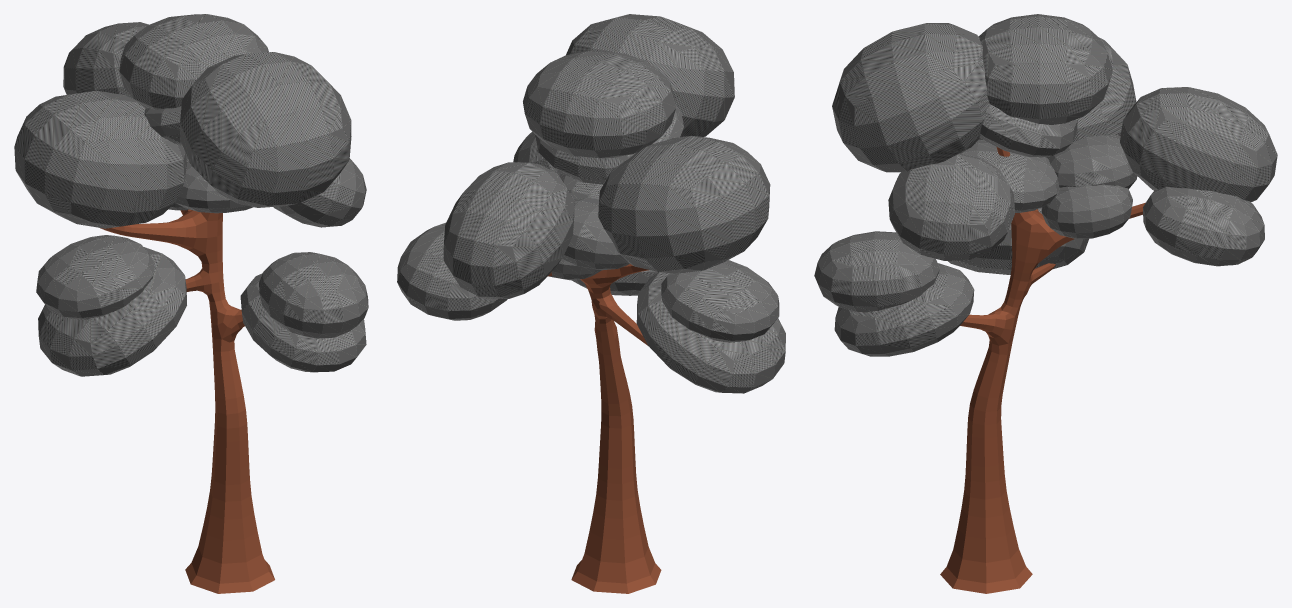
The model's file is ArbreDense.glb.
3 renders of one model, left to right at view 1: azimuth 30°, elevation 25°; view 2: azimuth 150°, elevation 25°; view 3: azimuth 270°, elevation 25°, orthographic.
Parts seen in each view (by area): view 1: Cube.004, Plane; view 2: Cube.004, Plane; view 3: Cube.004, Plane.
Boxes of the visible parts, bbox=[...] form: Cube.004: bbox=[14, 14, 368, 376]; Plane: bbox=[100, 209, 274, 593]; Cube.004: bbox=[397, 14, 785, 393]; Plane: bbox=[547, 264, 661, 593]; Cube.004: bbox=[814, 14, 1277, 356]; Plane: bbox=[940, 147, 1145, 593].
Size of the model in its own units: 2.3 by 4.17 by 3.21.
2 materials, 1 textured.
